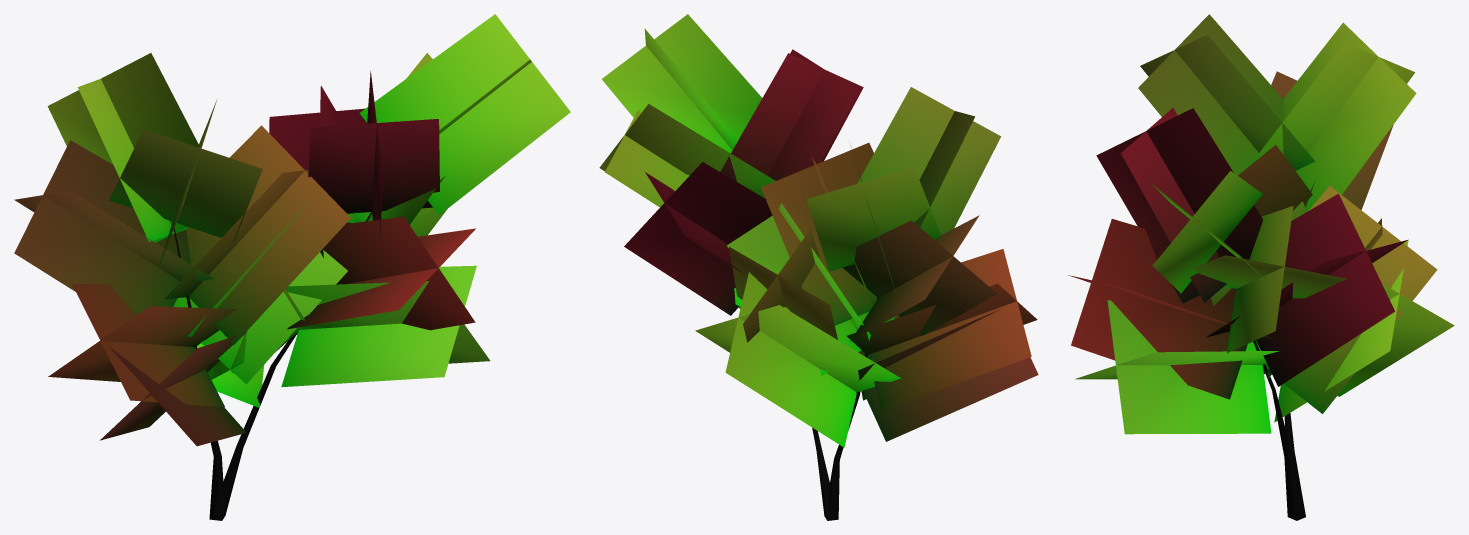
File: SuperTree_9.fbx
The picture shows the model from 3 angles, left to right: view 1: azimuth 30°, elevation 25°; view 2: azimuth 150°, elevation 25°; view 3: azimuth 270°, elevation 25°; orthographic projection. The views are drawn at different scales.
Visible parts, largest first — view 1: SuperTree_9; view 2: SuperTree_9; view 3: SuperTree_9.
Boxes of the visible parts, x1,y1,x2,y2 form: SuperTree_9: (14, 14, 570, 520); SuperTree_9: (599, 14, 1038, 520); SuperTree_9: (1068, 14, 1454, 520).
Size of the model in its own units: 756 by 696 by 527.
